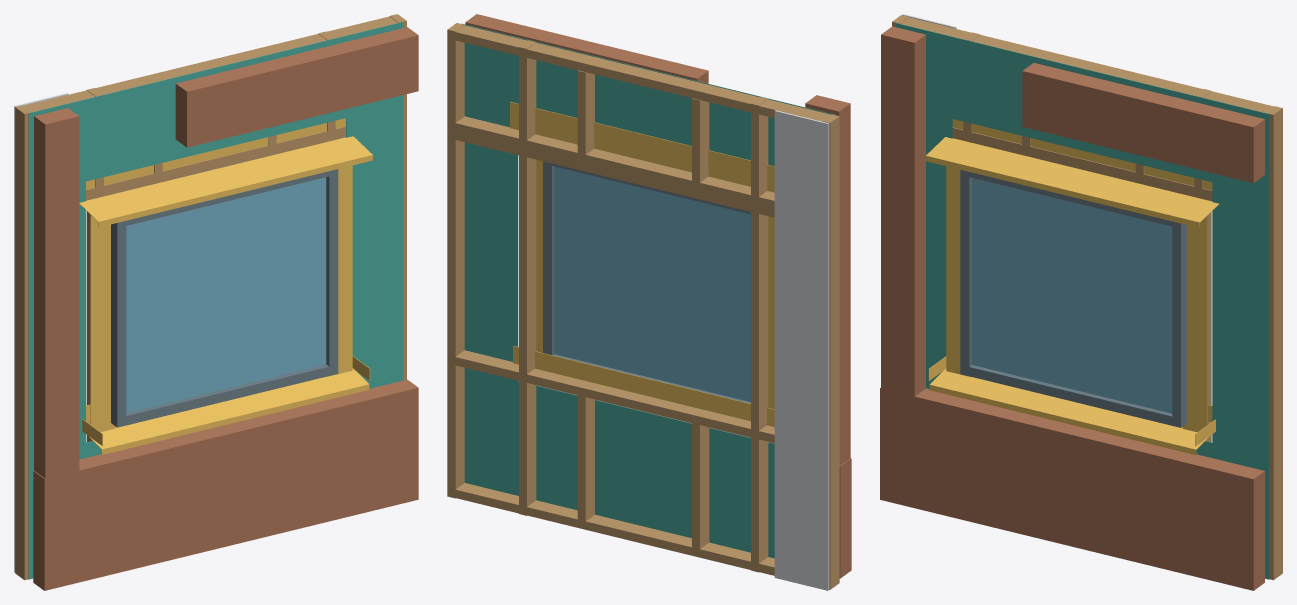
File: window.glb
3 views of the same model, side by side, from view 1: azimuth 30°, elevation 25°; view 2: azimuth 150°, elevation 25°; view 3: azimuth 330°, elevation 25° (orthographic).
Parts seen in each view (by area): view 1: brick, glass, wrap, frame, head, window, jamb, sill, lining; view 2: frame, wrap, glass, lining, brick, head, sill, window, jamb; view 3: brick, glass, wrap, frame, head, window, jamb, sill.
Part boxes in pixels (bbox=[...]): brick: bbox=[33, 27, 418, 590]; glass: bbox=[126, 177, 326, 413]; wrap: bbox=[28, 22, 403, 579]; frame: bbox=[15, 14, 406, 580]; head: bbox=[79, 118, 372, 227]; window: bbox=[111, 169, 338, 427]; jamb: bbox=[90, 165, 352, 431]; sill: bbox=[82, 356, 370, 454]; lining: bbox=[14, 93, 68, 572]; frame: bbox=[447, 23, 839, 589]; wrap: bbox=[461, 23, 835, 558]; glass: bbox=[554, 166, 750, 401]; lining: bbox=[774, 110, 829, 590]; brick: bbox=[465, 14, 851, 578]; head: bbox=[510, 101, 774, 192]; sill: bbox=[513, 346, 774, 426]; window: bbox=[543, 161, 750, 403]; jamb: bbox=[536, 159, 774, 409]; brick: bbox=[880, 26, 1264, 590]; glass: bbox=[972, 178, 1172, 413]; wrap: bbox=[895, 23, 1269, 579]; frame: bbox=[892, 15, 1282, 580]; head: bbox=[925, 119, 1218, 227]; window: bbox=[960, 169, 1187, 427]; jamb: bbox=[946, 166, 1207, 432]; sill: bbox=[928, 356, 1215, 454].
Bounding box in the file's own units: 2.14 × 2.5 × 0.305.
